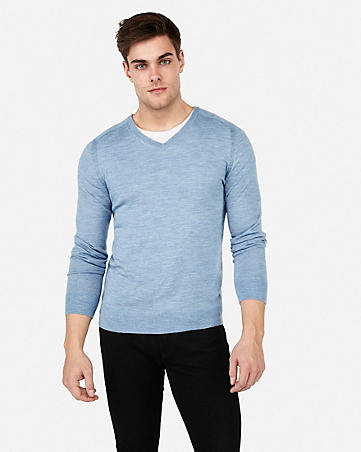NOTSAFE: (108, 10, 224, 328)
